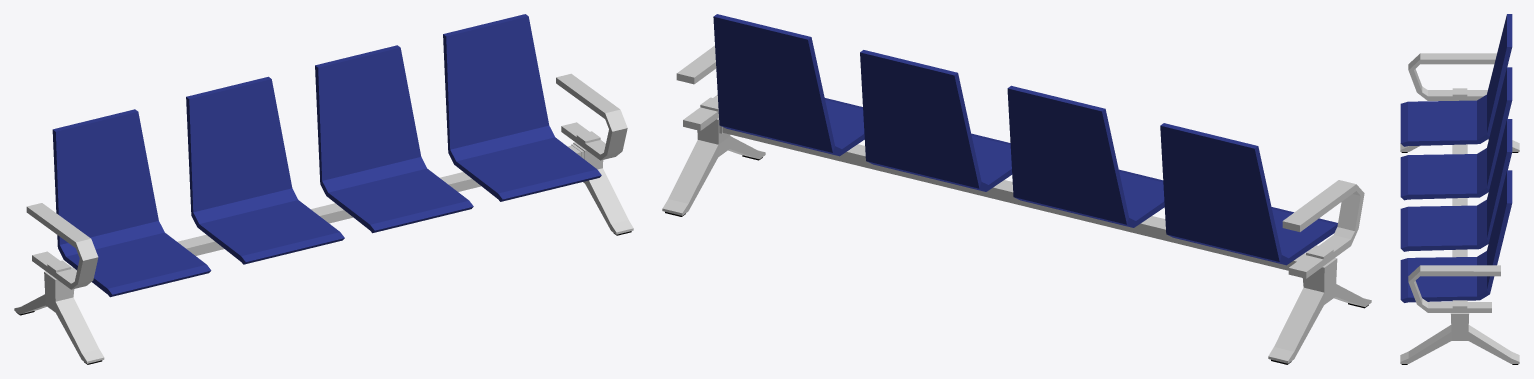
File: P_Chair_Client.fbx
The picture shows the model from 3 angles, left to right: view 1: azimuth 30°, elevation 25°; view 2: azimuth 150°, elevation 25°; view 3: azimuth 270°, elevation 25°; orthographic projection. The views are drawn at different scales.
Parts seen in each view (by area): view 1: P_Chair_Client; view 2: P_Chair_Client; view 3: P_Chair_Client.
Boxes of the visible parts, <box> form: P_Chair_Client: <box>14,14,633,364</box>; P_Chair_Client: <box>662,14,1371,364</box>; P_Chair_Client: <box>1400,14,1519,364</box>.
Size of the model in its own units: 1774 by 408 by 551.
